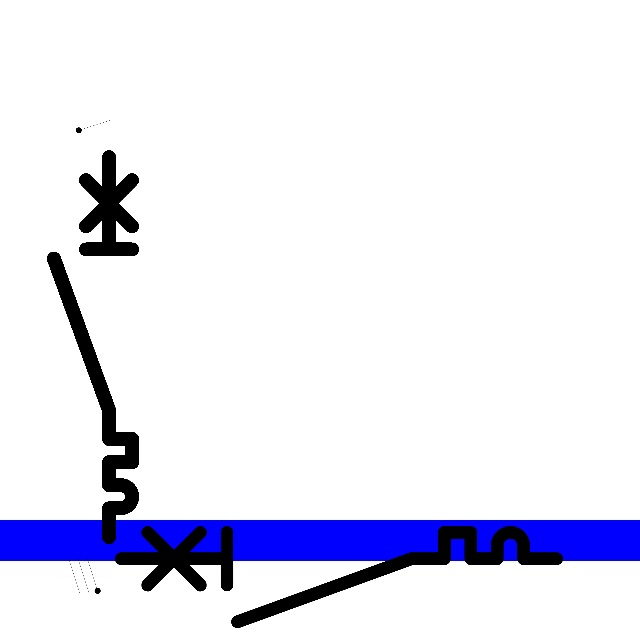interruptor_termomagnetico: (109, 521, 567, 633), (44, 147, 142, 546)
